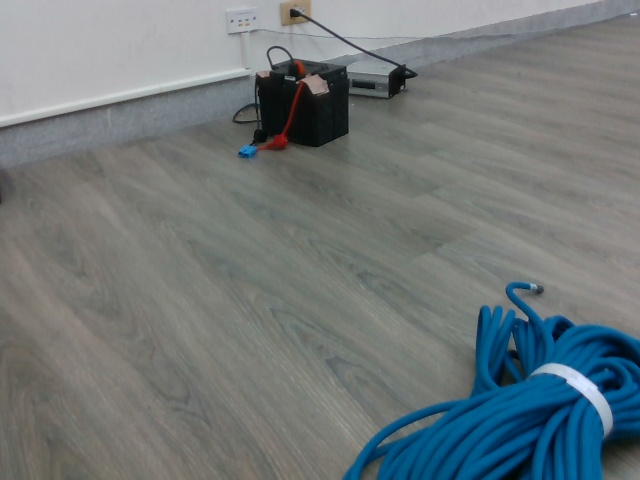rope: (343, 299, 640, 480)
